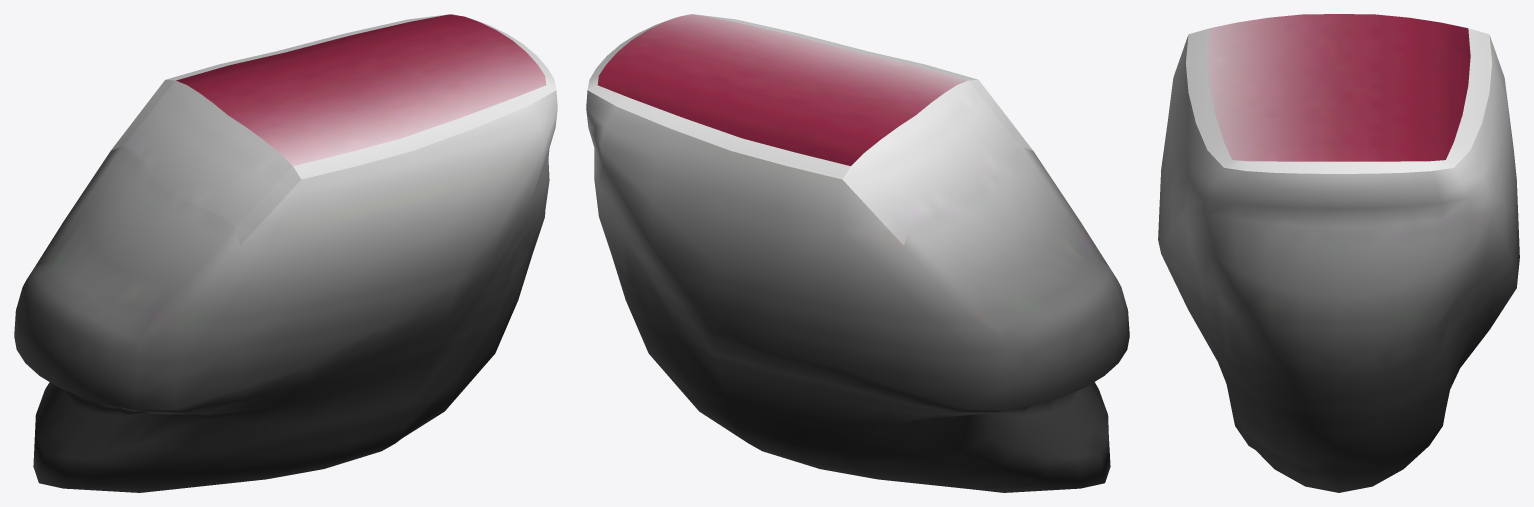
The model's file is M_TerrainBlock_04.fbx.
3 renders of one model, left to right at view 1: azimuth 30°, elevation 25°; view 2: azimuth 150°, elevation 25°; view 3: azimuth 270°, elevation 25°, orthographic. The views are drawn at different scales.
Visible parts, largest first — view 1: M_TerrainBlock_04; view 2: M_TerrainBlock_04; view 3: M_TerrainBlock_04.
Part boxes in pixels (box(x1,y1,x2,y2)): M_TerrainBlock_04: box(14, 14, 557, 492); M_TerrainBlock_04: box(586, 14, 1129, 492); M_TerrainBlock_04: box(1158, 14, 1519, 492).
Bounding box in the file's own units: 4042 × 2916 × 2351.
Materials: 1 (1 with a texture image).
